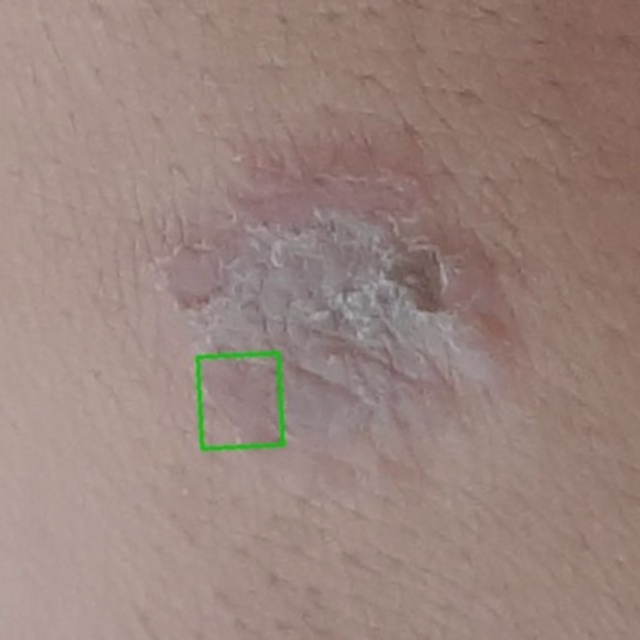Contact Dermatitis: (198, 354, 283, 449)
